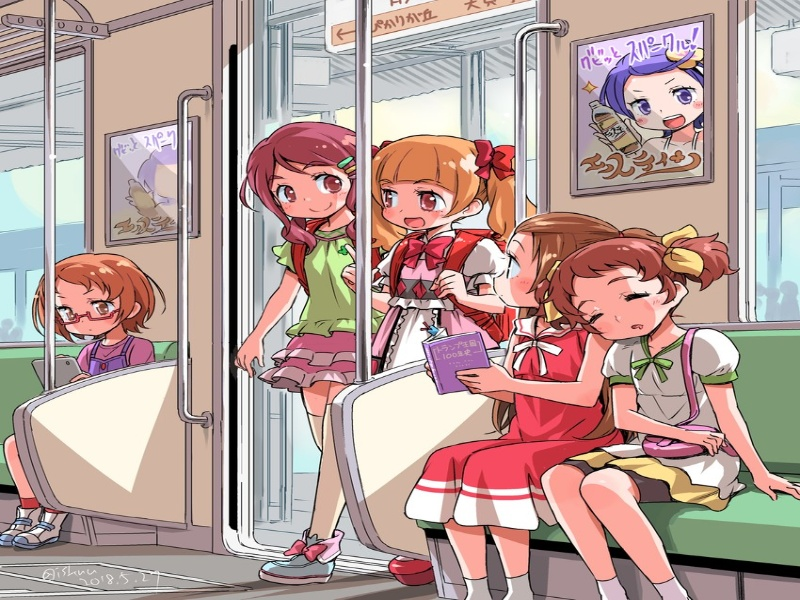book: (421, 318, 494, 401)
person: (545, 225, 705, 356), (373, 130, 501, 251), (236, 118, 357, 223), (35, 249, 162, 346), (486, 206, 580, 327), (613, 46, 717, 139)
